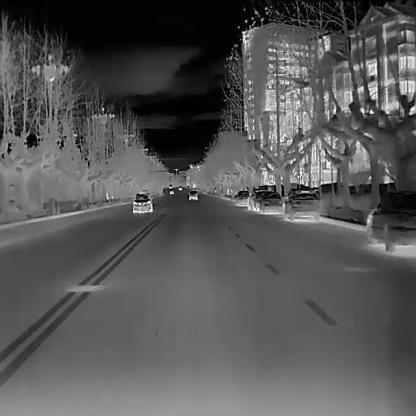car: (280, 186, 321, 222), (131, 188, 152, 213), (258, 191, 281, 213), (247, 190, 266, 211), (234, 188, 252, 208), (189, 189, 198, 199), (168, 183, 173, 188), (169, 188, 173, 194), (177, 184, 181, 188)
